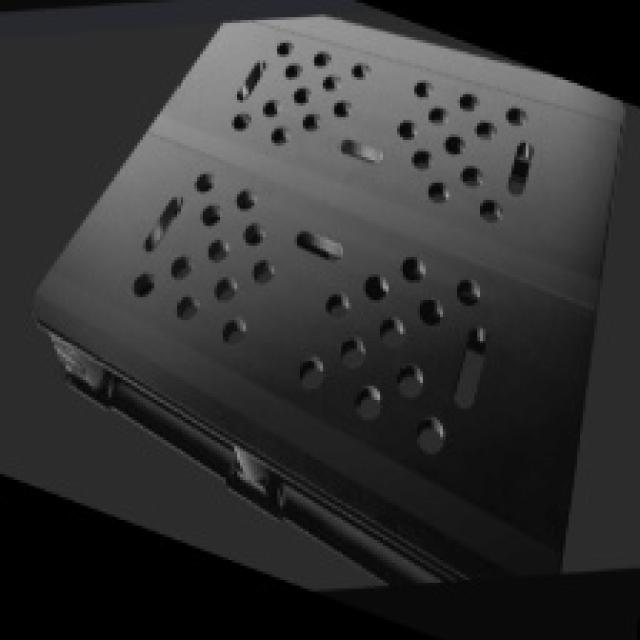igps: (21, 8, 634, 596)
